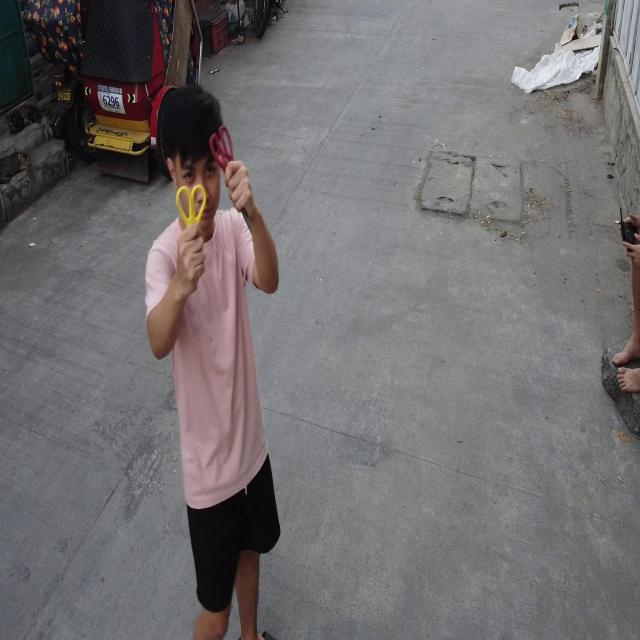scissor: (209, 122, 253, 234), (177, 185, 207, 228)
